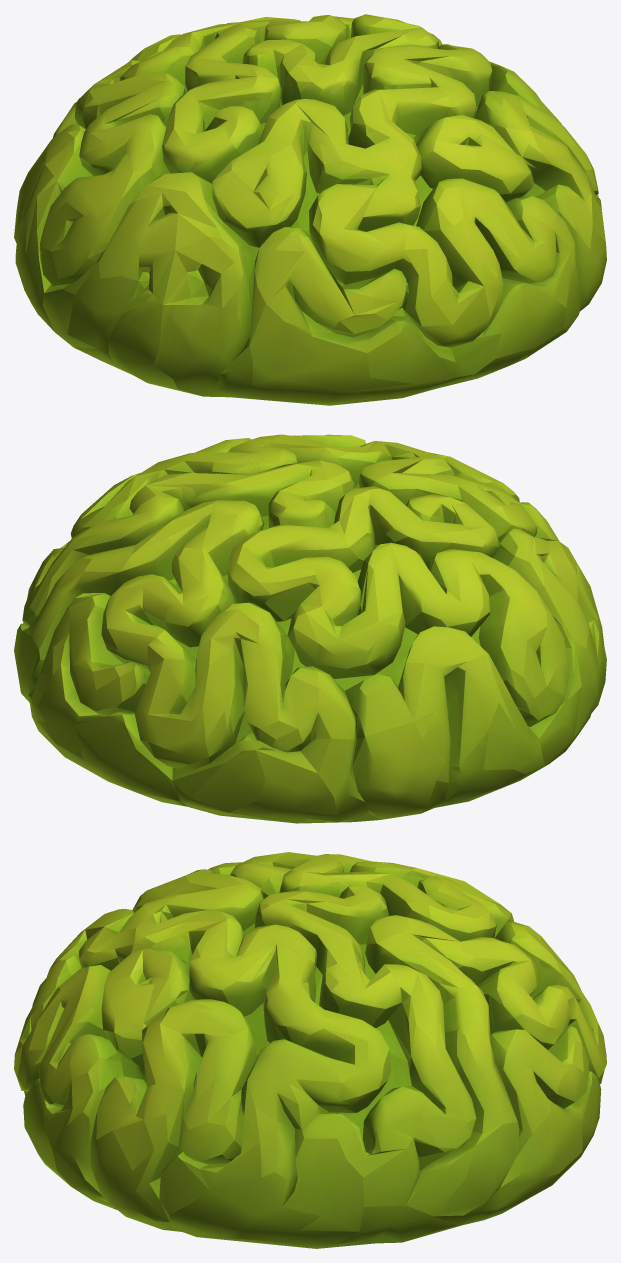
The model's file is hav-hjernekoral.glb.
The picture shows the model from 3 angles, top to bottom: view 1: azimuth 30°, elevation 25°; view 2: azimuth 150°, elevation 25°; view 3: azimuth 270°, elevation 25°; orthographic projection.
Size of the model in its own units: 1.9 by 0.8516 by 1.9.
Materials: 1 (1 with a texture image).
